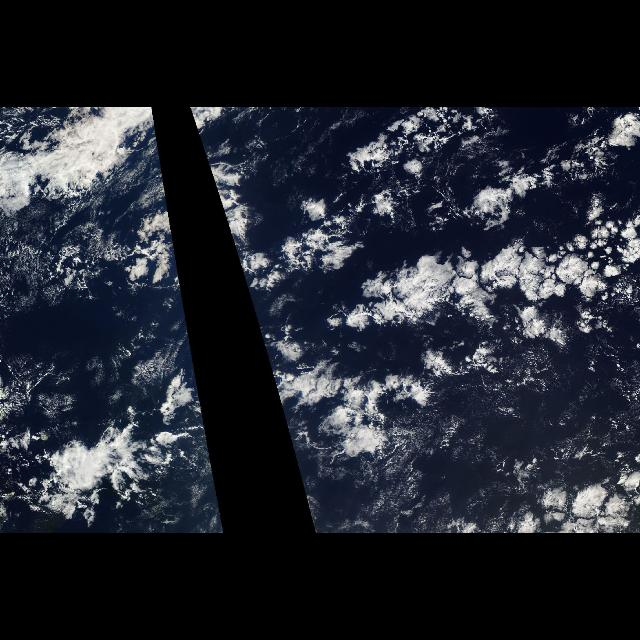Fish: (3, 107, 171, 227), (190, 107, 240, 227)
Flower: (310, 120, 640, 532)
